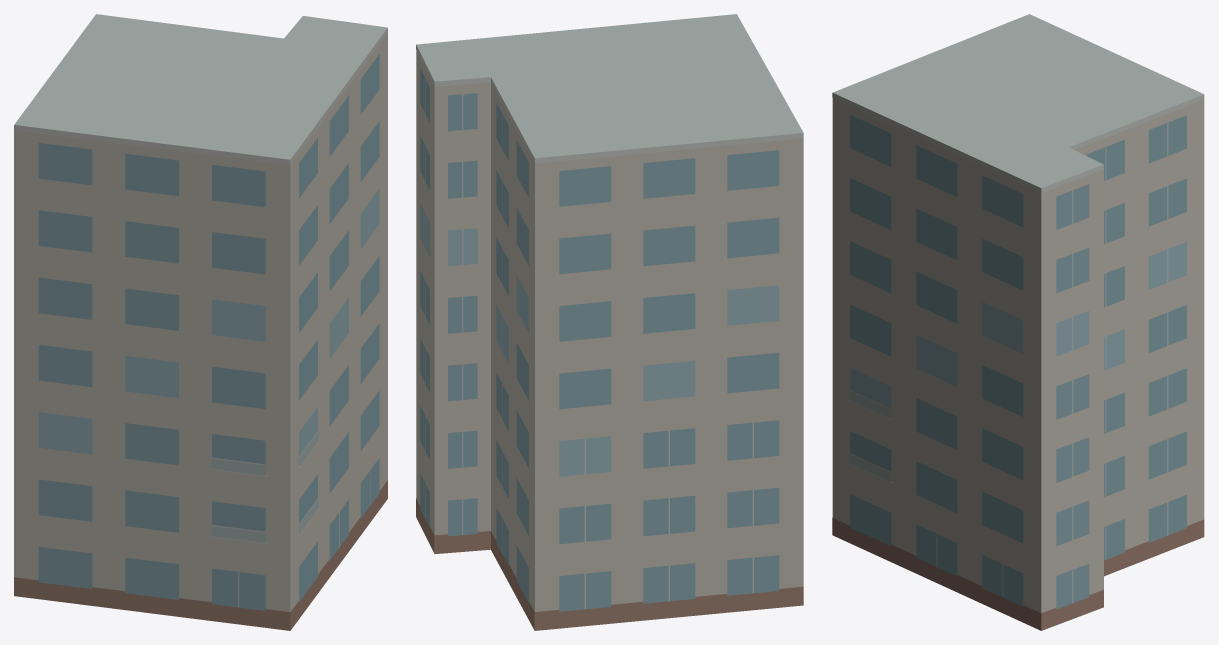
Rendered from survey-upis-32646993.glb.
3 views of the same model, side by side, from view 1: azimuth 30°, elevation 25°; view 2: azimuth 150°, elevation 25°; view 3: azimuth 270°, elevation 25° (orthographic). The views are drawn at different scales.
Parts seen in each view (by area): view 1: survey-upis-32646993.tmp; view 2: survey-upis-32646993.tmp; view 3: survey-upis-32646993.tmp.
Part boxes in pixels (left/top/right/bottom): survey-upis-32646993.tmp: left=14, top=14, right=387, bottom=630; survey-upis-32646993.tmp: left=416, top=14, right=803, bottom=630; survey-upis-32646993.tmp: left=832, top=14, right=1204, bottom=630.
Bounding box in the file's own units: 18.07 × 21.4 × 16.3.
